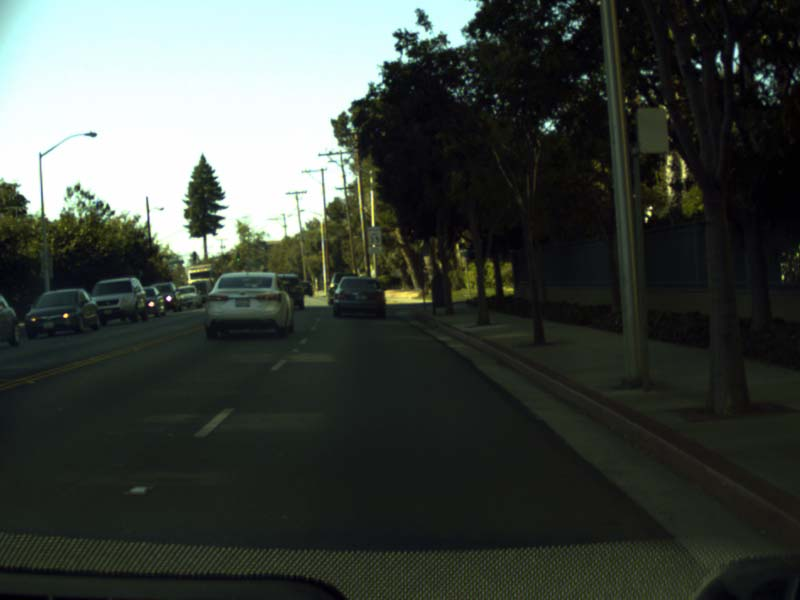Green: (236, 253, 239, 261)
